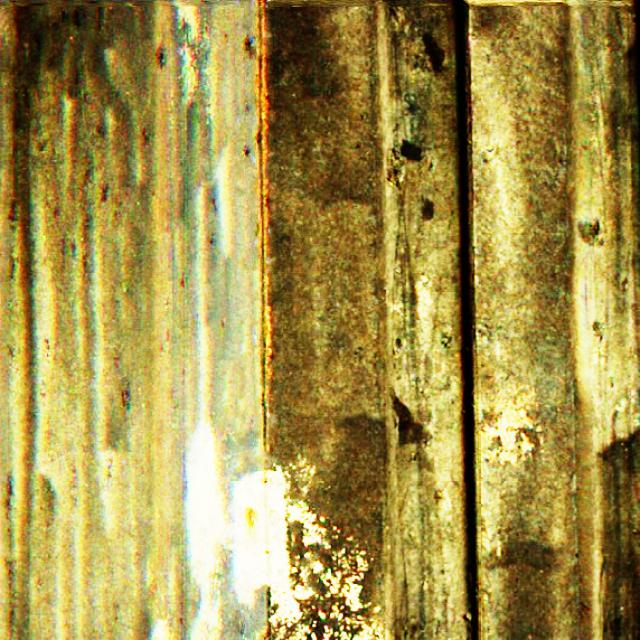Corrosion: (254, 0, 272, 417), (247, 506, 256, 528)
